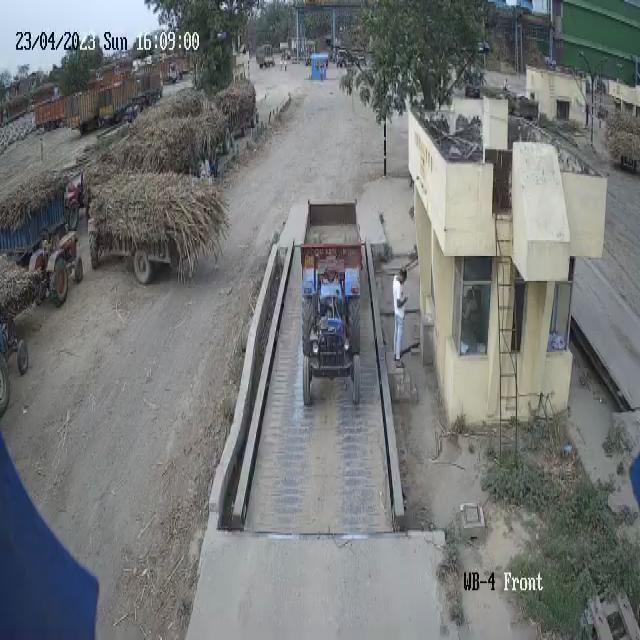Tratores - v5 YOLO V8L 2024-11-13: (294, 270, 369, 413), (23, 219, 86, 320)
